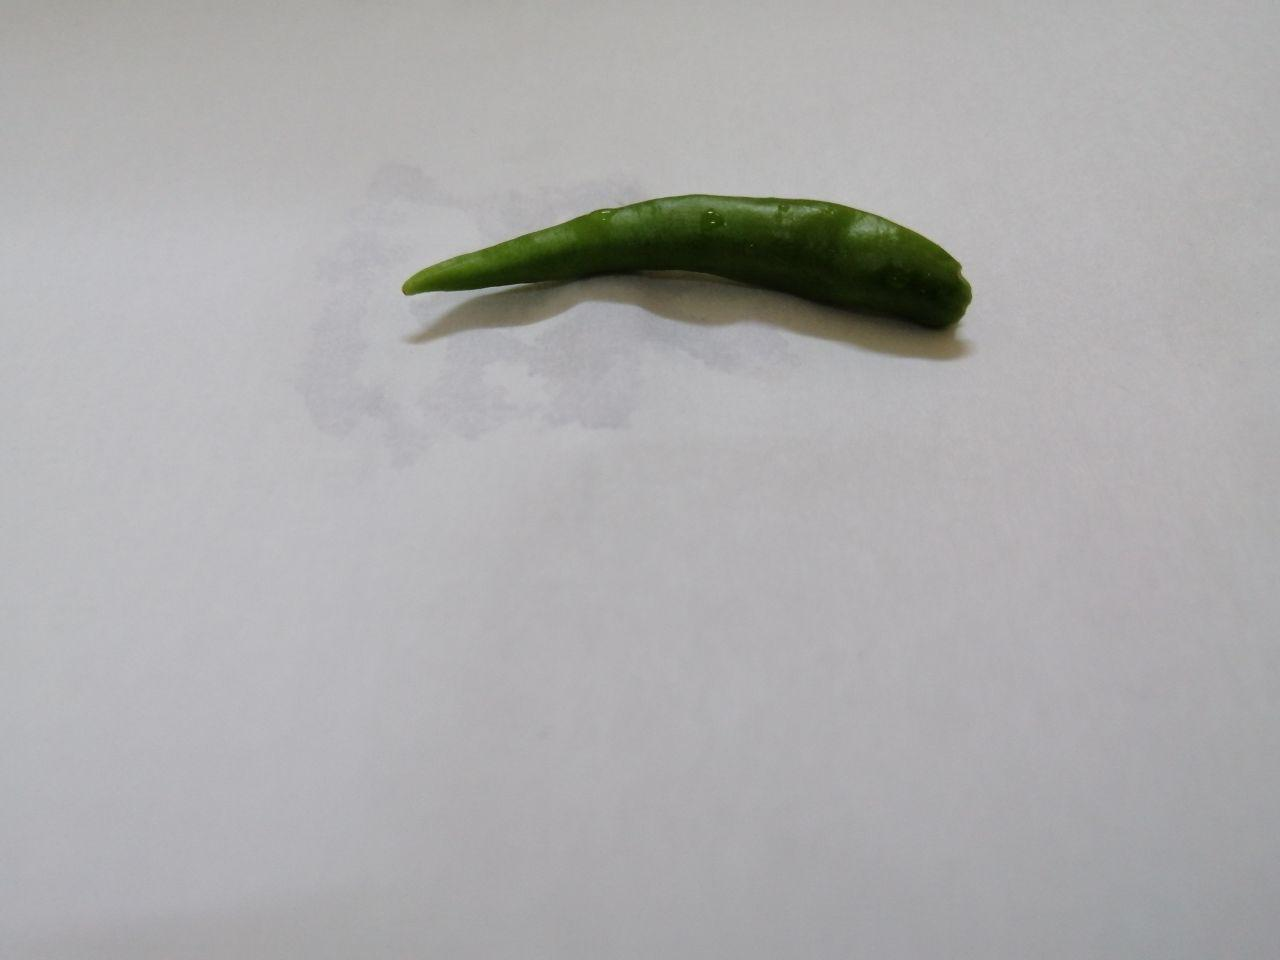lada hijau: (384, 171, 994, 393)
